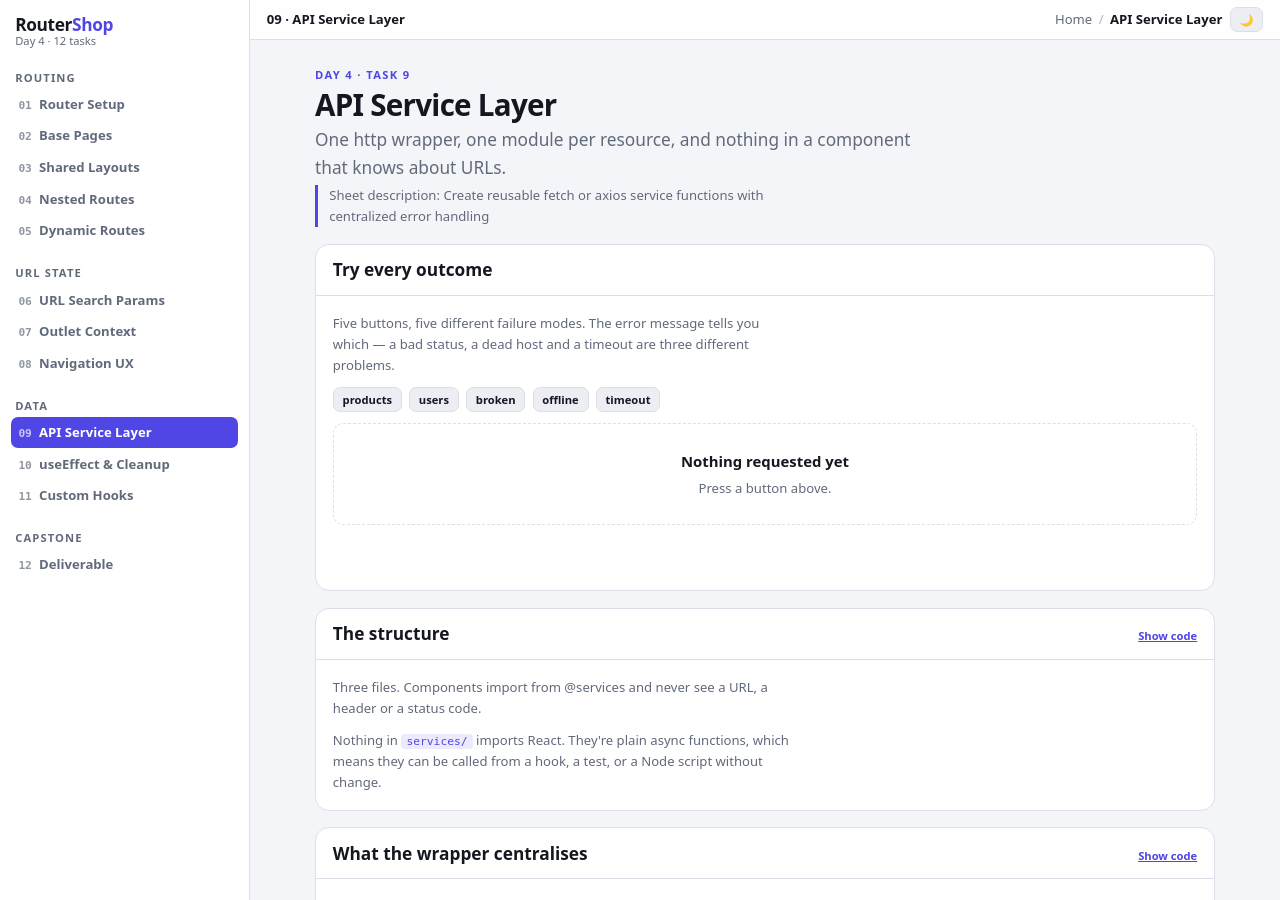
Scenario: task 9 — API service layer › distinguishes a network failure, which has no status
The image size is (1280, 900).
Expected: the text "Day 4 · Task 9" is shown, [315, 67, 410, 82]
Click the button "products".
click(367, 400)  # box [333, 387, 402, 412]
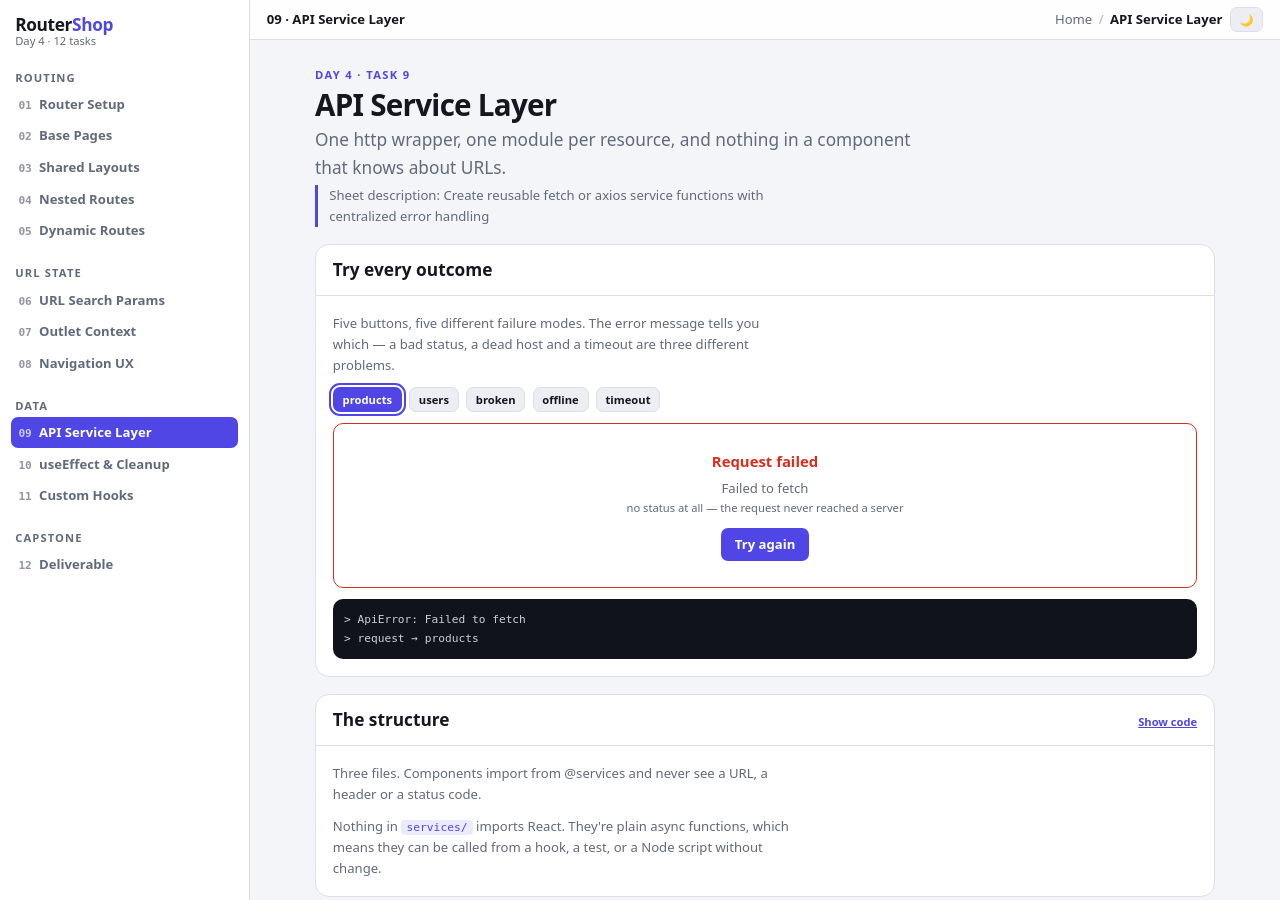
Expected: the text "no status at all — the request never reached a server" is shown, [626, 500, 904, 515]
